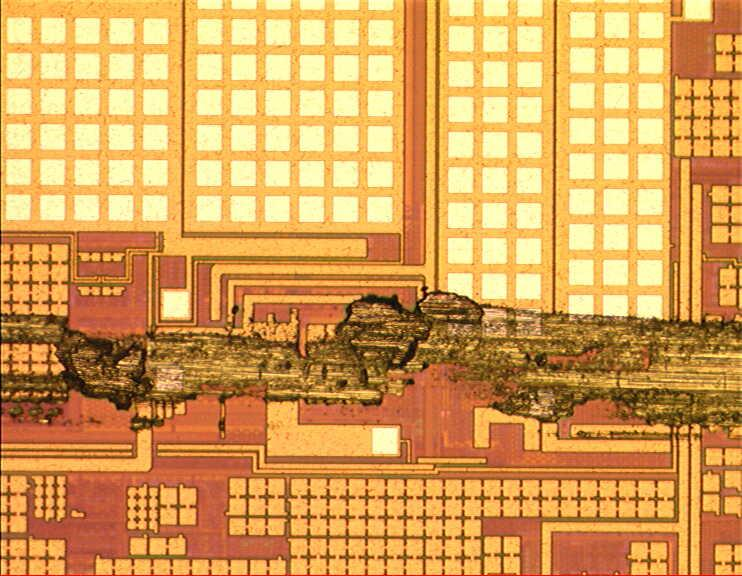SCRATCH: (1, 289, 742, 444)
